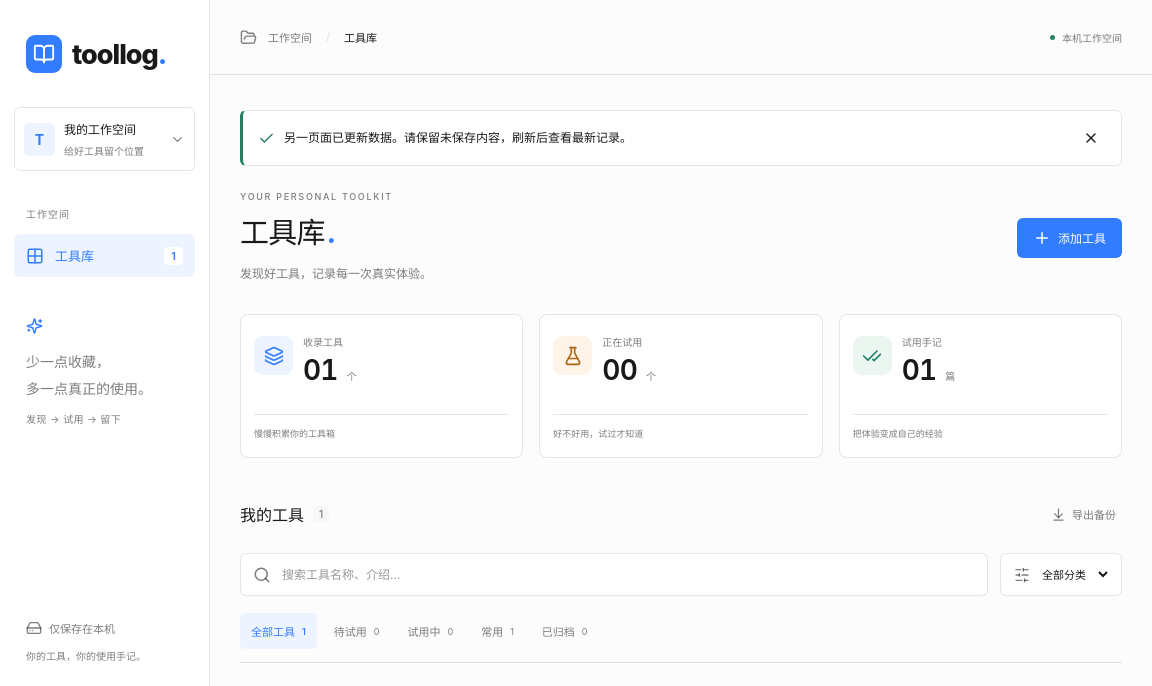
it: exports the latest persisted library rather than a stale tab snapshot
The image size is (1152, 686).
Click the button "导出备份" at x=1084, y=514, box [1045,496,1122,532]
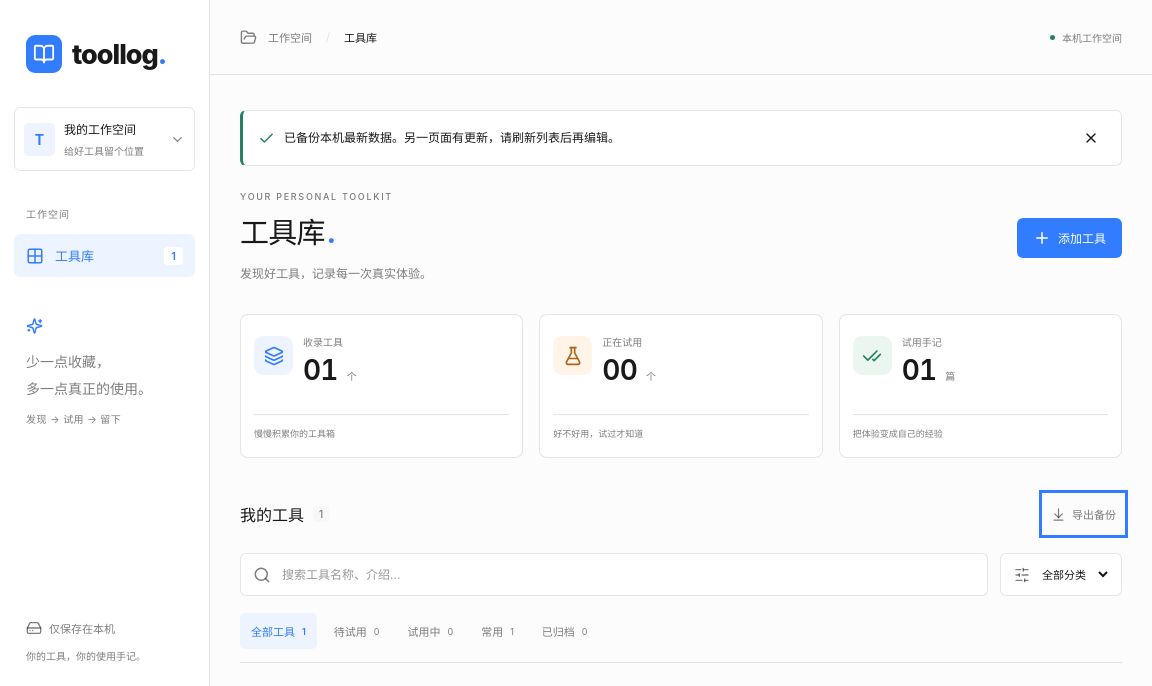
Check: the message shows "另一页面有更新", box [284,130,620,145]
